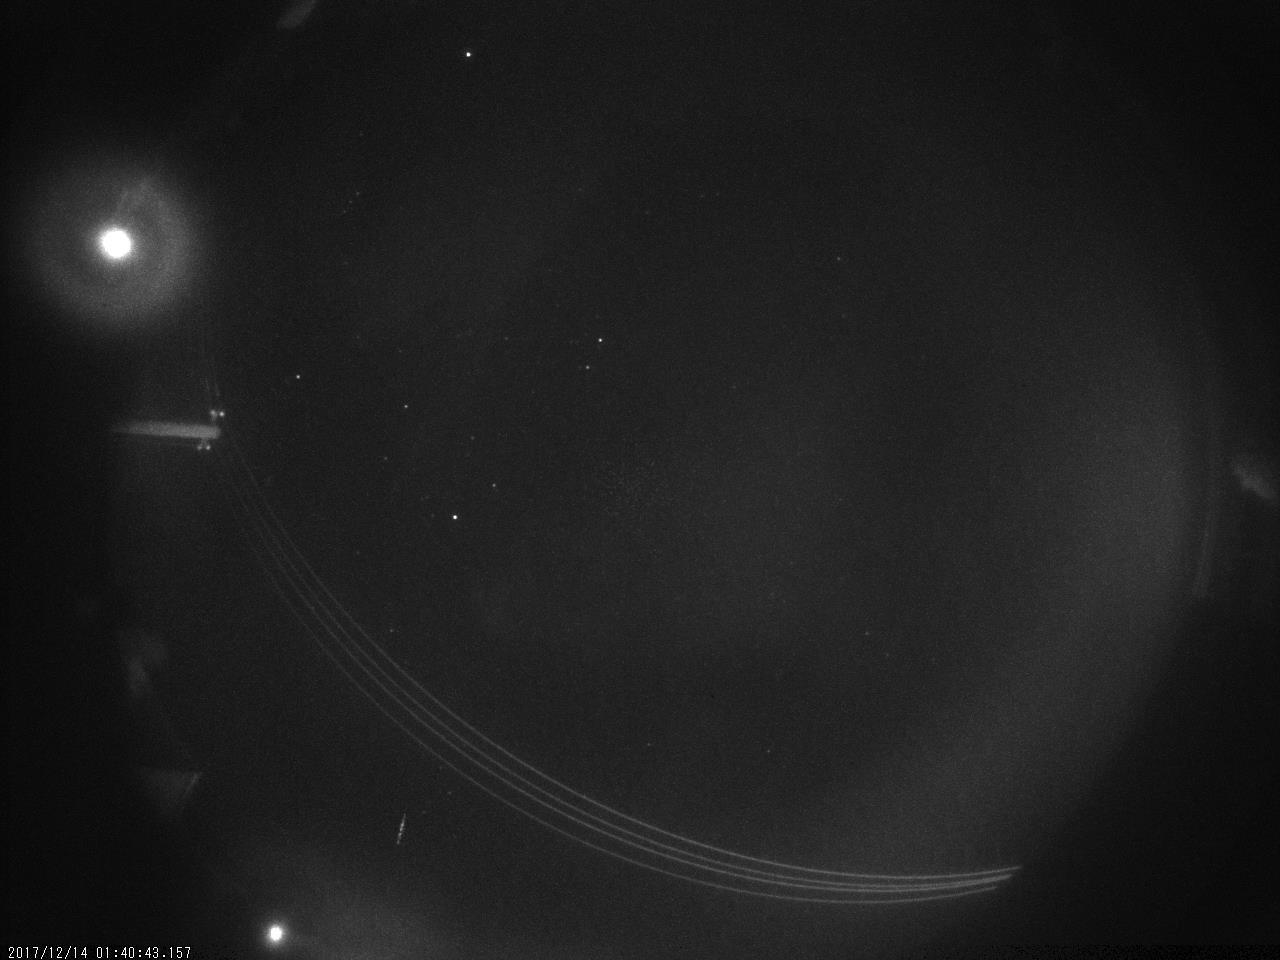Meteor: (391, 806, 412, 849)
